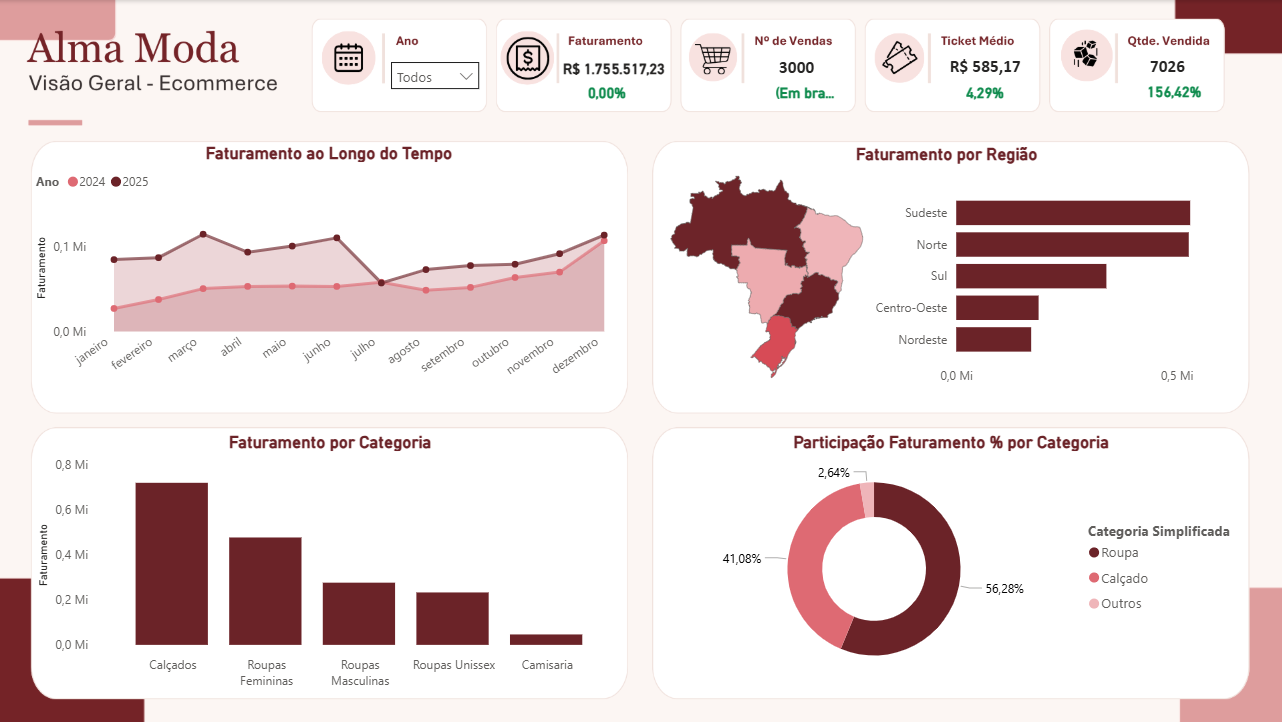

This screenshot's page, from the dashboard's own definition file:
{"tool":"powerbi","page":{"name":"Visão Geral","canvas":[1280,720],"ordinal":0},"visuals":[{"type":"card","fields":{"Values":["Medidas.Quantidade Vendida"]},"box":[1110.7,41.3,108.9,53.4],"z":0},{"type":"lineChart","title":"Faturamento ao Longo do Tempo","fields":{"Category":["dData.Nome do Mês"],"Y":["Medidas.Faturamento"],"Series":["dData.Ano"]},"box":[31.2,143.1,594.6,254],"z":1000},{"type":"shapeMap","title":"Faturamento por Região","fields":{"Value":["Medidas.Faturamento"],"Category":["dRegiao.Região da Venda"]},"box":[653.6,149.3,222.9,253.2],"z":2000},{"type":"columnChart","title":"                     Faturamento por Categoria","fields":{"Y":["Medidas.Faturamento"],"Category":["dCategorias.Categoria"]},"box":[33.1,431.3,592.9,263.4],"z":3000},{"type":"card","fields":{"Values":["Medidas.Numero de Vendas"]},"box":[740,41,109,54],"z":4000},{"type":"multiRowCard","fields":{"Values":["Medidas.Faturamento"]},"box":[557.1,55.6,117.8,39.3],"z":5000},{"type":"card","fields":{"Values":["Medidas.Ticket Medio"]},"box":[903.1,41.3,160.3,53.4],"z":6000},{"type":"slicer","fields":{"Values":["dData.Ano"]},"box":[380.3,51.4,107.9,42.4],"z":7000},{"type":"clusteredBarChart","title":"                     Faturamento por Categoria","fields":{"Category":["dRegiao.Região da Venda"],"Y":["Medidas.Faturamento"]},"box":[863.7,174.4,375.9,218.7],"z":8000},{"type":"donutChart","title":"Participação Faturamento % por Categoria","fields":{"Y":["Medidas.Participação Faturamento %"],"Category":["dCategorias.Categoria Simplificada"]},"box":[653.6,430.7,591.1,254.2],"z":9000},{"type":"textbox","box":[849.3,138.2,238,33.3],"z":10000},{"type":"multiRowCard","fields":{"Values":["Medidas.Crescimento Faturamento %"]},"box":[581.5,79.6,72.6,35.3],"z":11000},{"type":"multiRowCard","fields":{"Values":["Medidas.Crescimento Ticket Médio %"]},"box":[959,80,73,35],"z":12000},{"type":"multiRowCard","fields":{"Values":["Medidas.Crescimento Quantidade %"]},"box":[1139,79,72,35],"z":13000},{"type":"multiRowCard","fields":{"Values":["Medidas.Crescimento Vendas %"]},"box":[769,80,74,34],"z":14000}]}

Visuals, with their boxes in screenshot pixels (x1, y1, x2, y2), scaled from the page's 1280x720 canvas onto the 1282x722 screenshot:
card - Medidas.Quantidade Vendida: [1112, 41, 1222, 95]
"Faturamento ao Longo do Tempo" lineChart: [31, 143, 627, 398]
"Faturamento por Região" shapeMap: [655, 150, 878, 404]
"                     Faturamento por Categoria" columnChart: [33, 432, 627, 697]
card - Medidas.Numero de Vendas: [741, 41, 850, 95]
multiRowCard - Medidas.Faturamento: [558, 56, 676, 95]
card - Medidas.Ticket Medio: [905, 41, 1065, 95]
slicer - dData.Ano: [381, 52, 489, 94]
"                     Faturamento por Categoria" clusteredBarChart: [865, 175, 1242, 394]
"Participação Faturamento % por Categoria" donutChart: [655, 432, 1247, 687]
textbox: [851, 139, 1089, 172]
multiRowCard - Medidas.Crescimento Faturamento %: [582, 80, 655, 115]
multiRowCard - Medidas.Crescimento Ticket Médio %: [960, 80, 1034, 115]
multiRowCard - Medidas.Crescimento Quantidade %: [1141, 79, 1213, 114]
multiRowCard - Medidas.Crescimento Vendas %: [770, 80, 844, 114]
